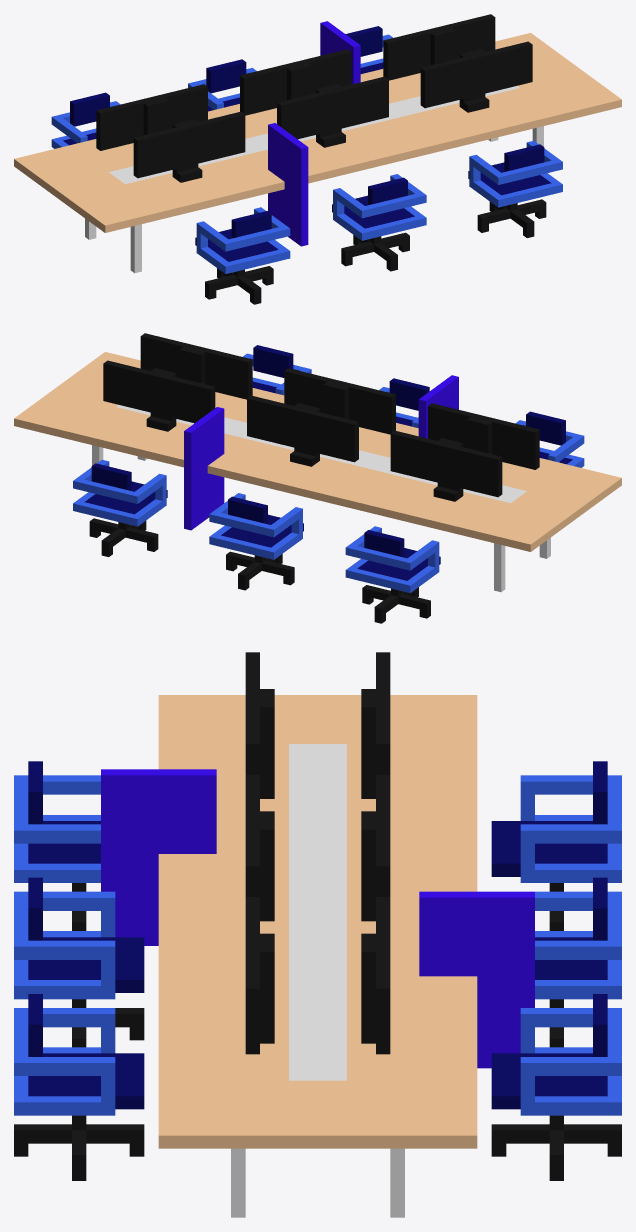
The model's file is dice_2og-37-joyn platform.obj.
3 views of the same model, one above another, from view 1: azimuth 30°, elevation 25°; view 2: azimuth 150°, elevation 25°; view 3: azimuth 270°, elevation 25° (orthographic). The views are drawn at different scales.
Visible parts, largest first — view 1: joyn platform; view 2: joyn platform; view 3: joyn platform.
Part boxes in pixels (x1=…): joyn platform: x1=14, y1=14, x2=621, y2=304; joyn platform: x1=14, y1=333, x2=621, y2=623; joyn platform: x1=14, y1=652, x2=621, y2=1217.
Bounding box in the file's own units: 7.2 × 1.7 × 4.2.
Materials: 1 (1 with a texture image).
